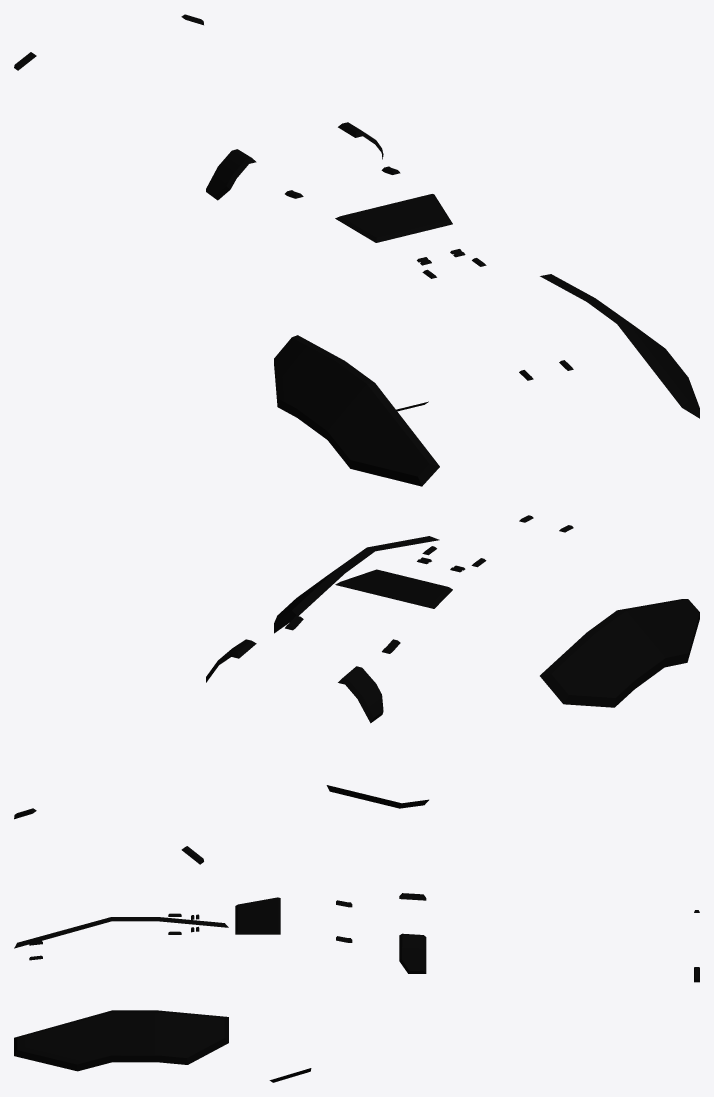
File: kpr_tormentor_01.glb
3 renders of one model, top to bottom at view 1: azimuth 30°, elevation 25°; view 2: azimuth 150°, elevation 25°; view 3: azimuth 270°, elevation 25°, orthographic. The views are drawn at different scales.
Visible parts, largest first — view 1: kpr_tormentor_01_LOD0; view 2: kpr_tormentor_01_LOD0; view 3: kpr_tormentor_01_LOD0.
Part boxes in pixels (x1,y1,x2,y2): kpr_tormentor_01_LOD0: [14, 14, 699, 486]; kpr_tormentor_01_LOD0: [14, 515, 699, 864]; kpr_tormentor_01_LOD0: [14, 893, 699, 1082].
Size of what is drawn, in the model's own units: 1.14 by 0.665 by 2.65.
1 material, 1 textured.
